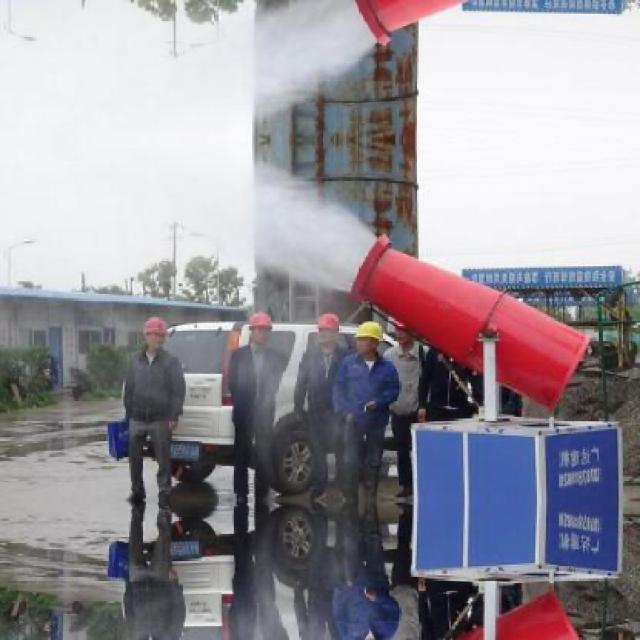helmet: (354, 318, 388, 357), (245, 308, 277, 348), (140, 314, 171, 346), (314, 308, 340, 344)
